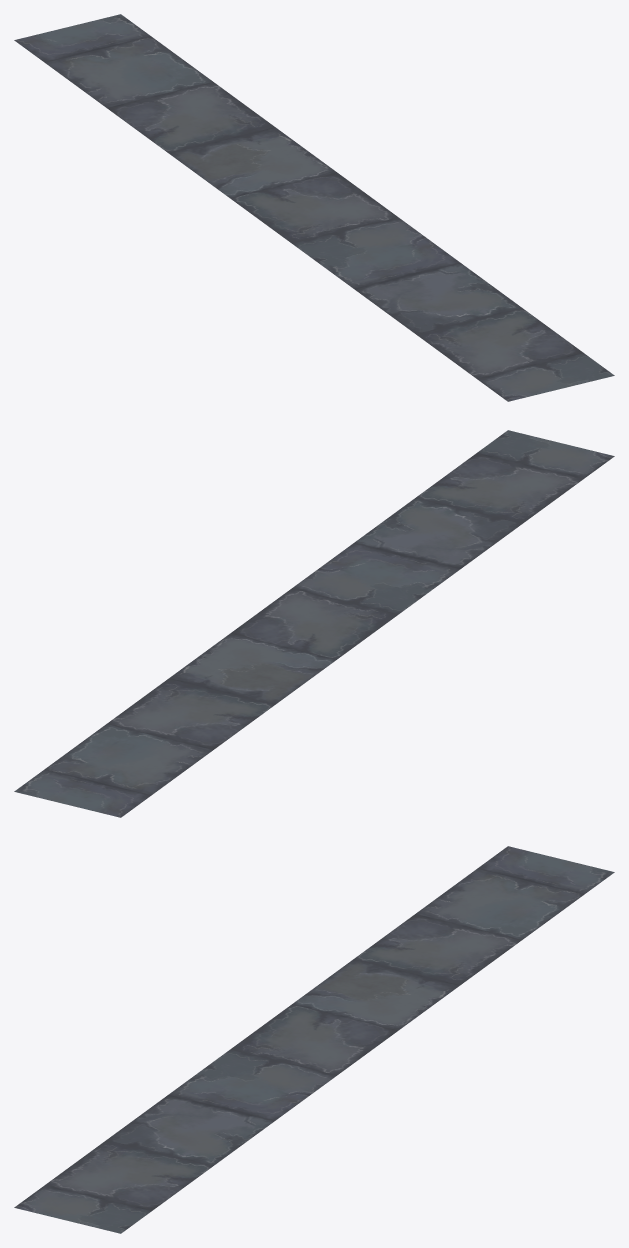
File: Castle Ground X Dark 1x8.fbx
3 renders of one model, top to bottom at view 1: azimuth 30°, elevation 25°; view 2: azimuth 150°, elevation 25°; view 3: azimuth 330°, elevation 25°, orthographic.
Parts seen in each view (by area): view 1: Castle Ground X Dark 1x8; view 2: Castle Ground X Dark 1x8; view 3: Castle Ground X Dark 1x8.
Boxes of the visible parts, bbox=[...] form: Castle Ground X Dark 1x8: bbox=[14, 14, 614, 401]; Castle Ground X Dark 1x8: bbox=[14, 430, 614, 817]; Castle Ground X Dark 1x8: bbox=[14, 846, 614, 1233].
Bounding box in the file's own units: 0.75 × 6.81e-07 × 6.
